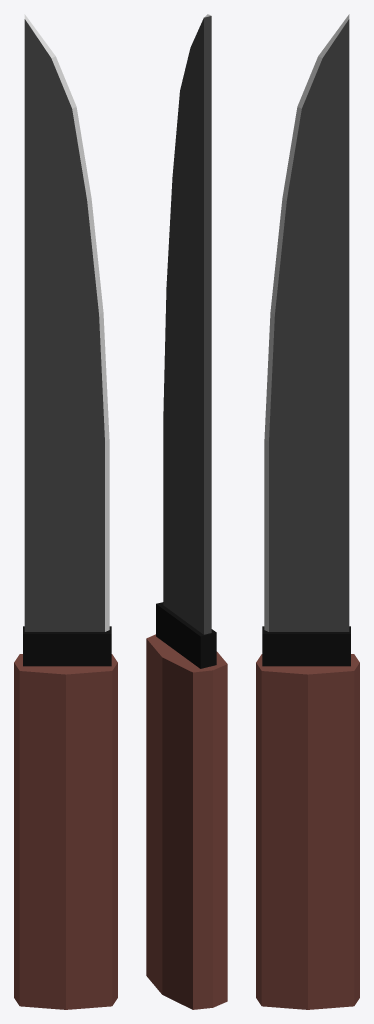
The model's file is Tanto.glb.
The picture shows the model from 3 angles, left to right: view 1: azimuth 90°, elevation 25°; view 2: azimuth 210°, elevation 25°; view 3: azimuth 270°, elevation 25°; orthographic projection.
Parts seen in each view (by area): view 1: Tanto; view 2: Tanto; view 3: Tanto.
Part boxes in pixels (bbox=[...]): Tanto: bbox=[14, 14, 117, 1009]; Tanto: bbox=[146, 14, 227, 1009]; Tanto: bbox=[256, 14, 359, 1009].
Bounding box in the file's own units: 0.02 × 0.3813 × 0.0365.
